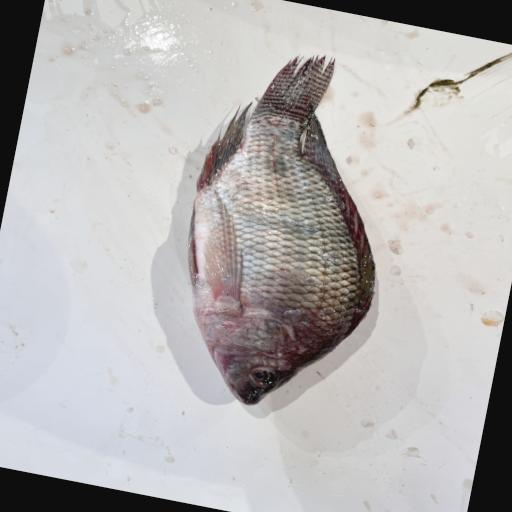Tilapia: (157, 36, 418, 426)
